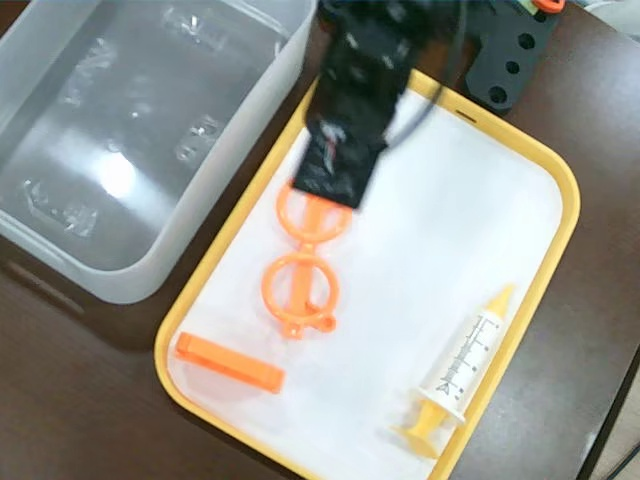syringe: (392, 280, 516, 458)
